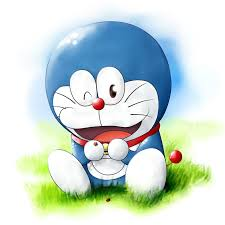doraemon: (44, 20, 174, 204)
